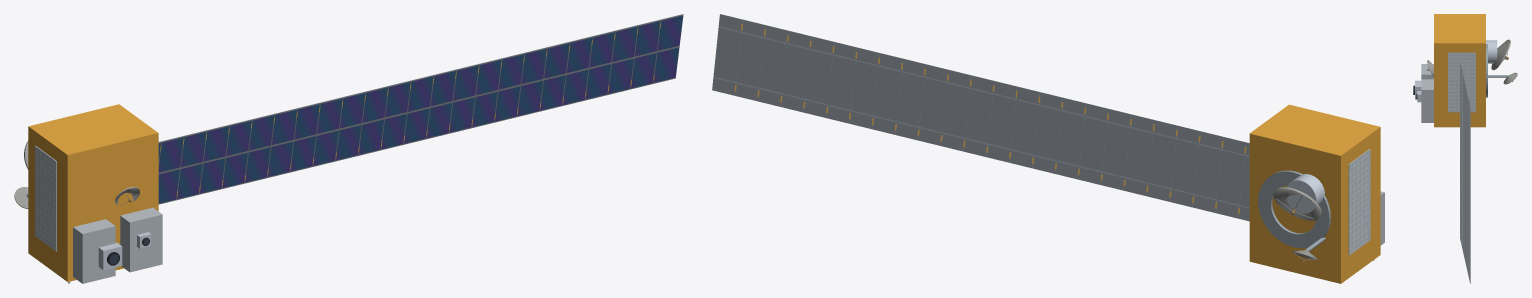
The model's file is adeos-ii.glb.
3 views of the same model, side by side, from view 1: azimuth 30°, elevation 25°; view 2: azimuth 150°, elevation 25°; view 3: azimuth 270°, elevation 25° (orthographic). The views are drawn at different scales.
Parts seen in each view (by area): view 1: Solar cell strings (×46), Spacecraft body, Service equipment bay (×2), Thermal radiator tiles, Global Imager housing; view 2: Solar panel substrate (×24), Spacecraft body, Launch interface, Thermal radiator tiles, AMSR scanner drum, AMSR scanning reflector; view 3: Spacecraft body, Solar panel substrate (×24), Thermal radiator tiles, Service equipment bay (×2), AMSR scanning reflector, AMSR scanner drum, Launch interface, Inter-orbit communications antenna, Global Imager housing.
Boxes of the visible parts, x1,y1,x2,y2 form: Solar cell strings (×46): [158, 15, 682, 203]; Spacecraft body: [28, 104, 158, 281]; Service equipment bay (×2): [73, 207, 162, 283]; Thermal radiator tiles: [35, 146, 56, 251]; Global Imager housing: [98, 242, 122, 270]; Solar panel substrate (×24): [712, 14, 1249, 221]; Spacecraft body: [1249, 104, 1380, 283]; Launch interface: [1258, 170, 1330, 248]; Thermal radiator tiles: [1348, 149, 1370, 255]; AMSR scanner drum: [1286, 174, 1324, 213]; AMSR scanning reflector: [1273, 187, 1321, 220]; Spacecraft body: [1434, 14, 1485, 127]; Solar panel substrate (×24): [1460, 62, 1470, 283]; Thermal radiator tiles: [1448, 52, 1475, 112]; Service equipment bay (×2): [1421, 64, 1433, 122]; AMSR scanning reflector: [1491, 39, 1510, 70]; AMSR scanner drum: [1486, 40, 1497, 63]; Launch interface: [1486, 44, 1487, 97]; Inter-orbit communications antenna: [1503, 72, 1517, 84]; Global Imager housing: [1415, 80, 1421, 99].
Bounding box in the file's own units: 28.03 × 5.54 × 6.04.
13 materials, 2 textured.
